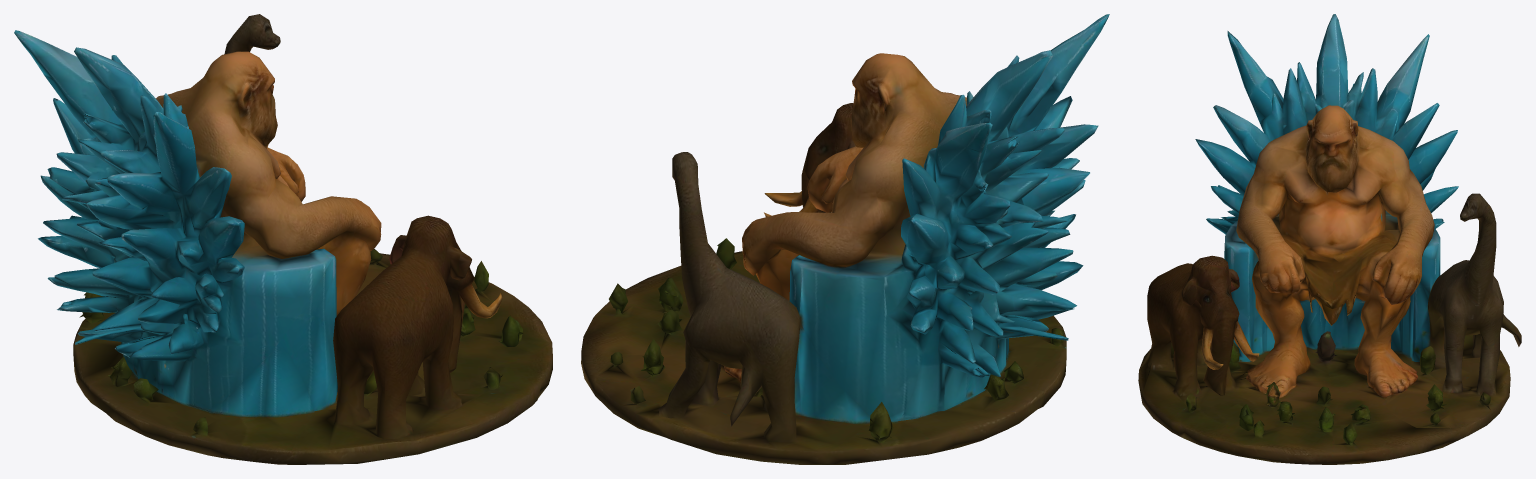
3 views of the same model, side by side, from view 1: azimuth 30°, elevation 25°; view 2: azimuth 150°, elevation 25°; view 3: azimuth 270°, elevation 25° (orthographic). The views are drawn at different scales.
Visible parts, largest first — view 1: tripo_node_55d956cf-2486-41f3-a559-b33615f31654; view 2: tripo_node_55d956cf-2486-41f3-a559-b33615f31654; view 3: tripo_node_55d956cf-2486-41f3-a559-b33615f31654.
Part boxes in pixels (x1,y1,x2,y2): tripo_node_55d956cf-2486-41f3-a559-b33615f31654: (14,14,552,464); tripo_node_55d956cf-2486-41f3-a559-b33615f31654: (581,14,1109,464); tripo_node_55d956cf-2486-41f3-a559-b33615f31654: (1138,14,1521,464).
Bounding box in the file's own units: 0.9993 × 0.7779 × 0.9435.
Materials: 1 (1 with a texture image).
